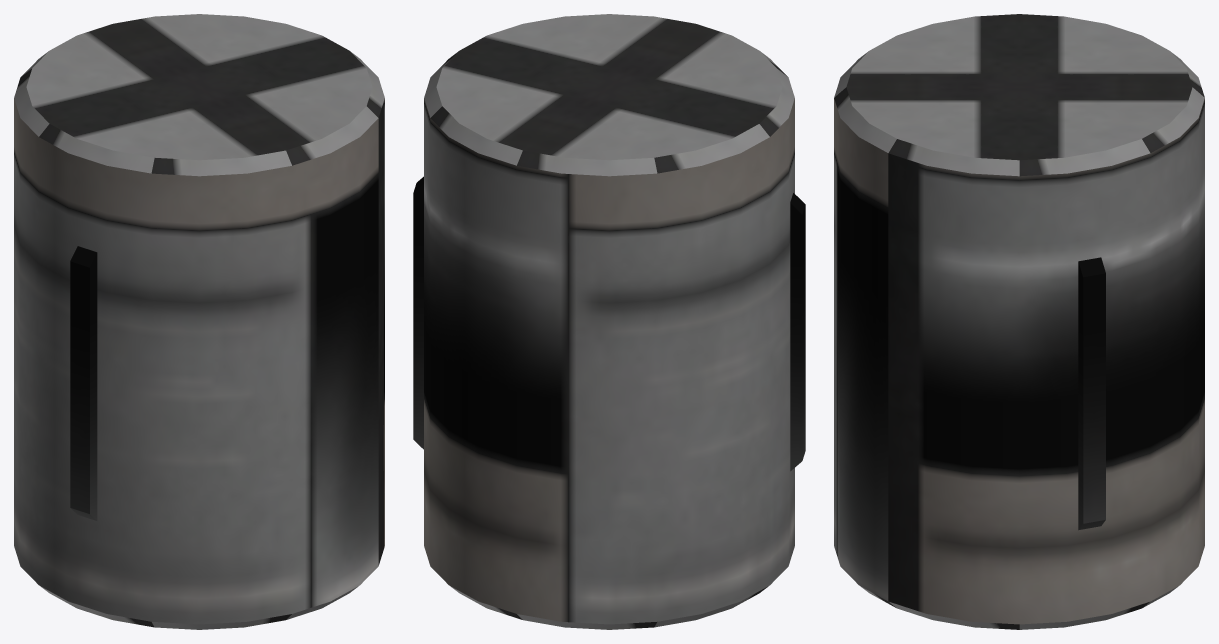
The model's file is Arrow_FuelTank_0p5_2.obj.
The picture shows the model from 3 angles, left to right: view 1: azimuth 30°, elevation 25°; view 2: azimuth 150°, elevation 25°; view 3: azimuth 270°, elevation 25°; orthographic projection.
Visible parts, largest first — view 1: Arrow_FuelTank_0p5_2; view 2: Arrow_FuelTank_0p5_2; view 3: Arrow_FuelTank_0p5_2.
Part boxes in pixels (<box>): Arrow_FuelTank_0p5_2: <box>14,14,384,629</box>; Arrow_FuelTank_0p5_2: <box>413,14,805,629</box>; Arrow_FuelTank_0p5_2: <box>834,14,1204,629</box>.
Size of the model in its own units: 0.9404 by 1.31 by 0.9375.
